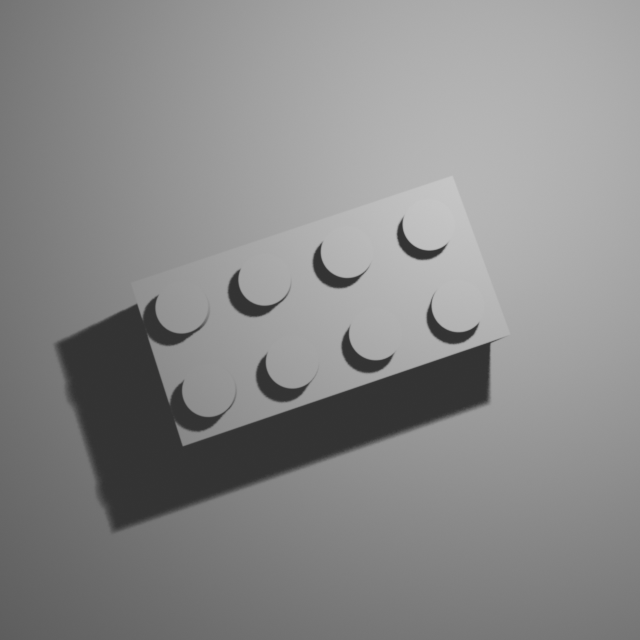lego_2x4: (127, 171, 514, 447)
